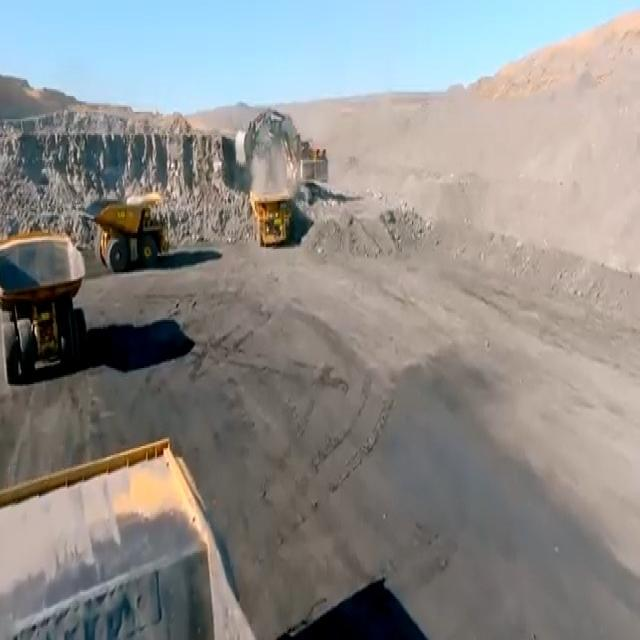dump_truck: (0, 228, 98, 363), (80, 194, 166, 270), (250, 188, 289, 245)
excavator: (233, 105, 329, 183)
